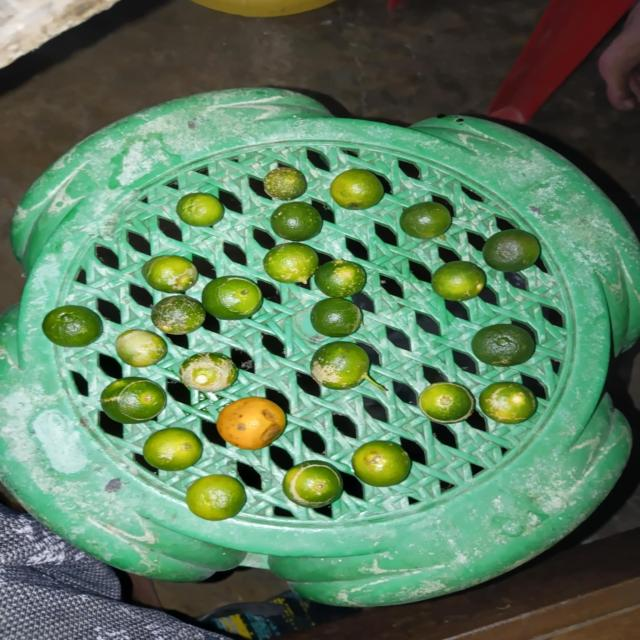black spot: (214, 397, 286, 451)
thrips: (99, 376, 166, 426), (282, 460, 344, 509), (203, 276, 266, 320), (418, 382, 476, 426), (481, 380, 538, 423), (176, 352, 237, 392), (139, 255, 199, 293), (113, 328, 170, 366), (310, 298, 366, 336)
